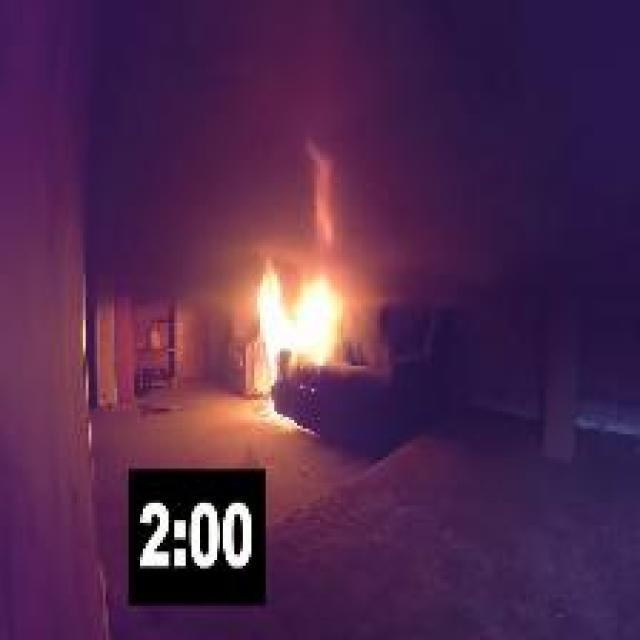fire: (233, 141, 377, 439)
